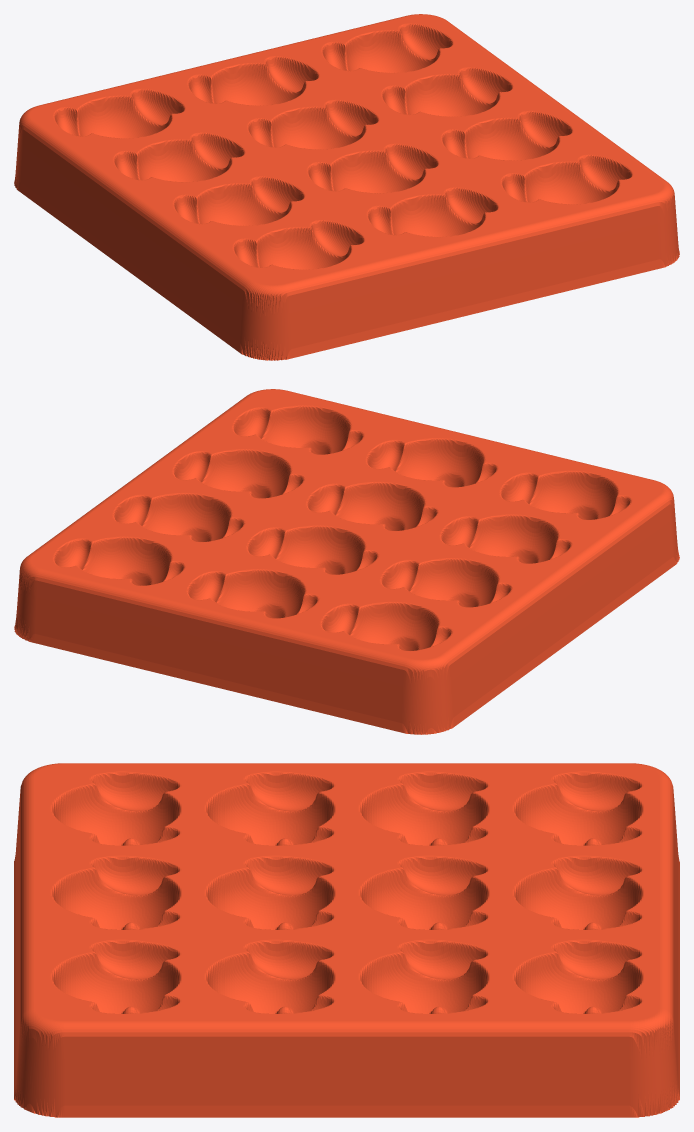
Rendered from mold.glb.
3 views of the same model, one above another, from view 1: azimuth 30°, elevation 25°; view 2: azimuth 150°, elevation 25°; view 3: azimuth 270°, elevation 25° (orthographic). The views are drawn at different scales.
Parts seen in each view (by area): view 1: geometry_0; view 2: geometry_0; view 3: geometry_0.
Boxes of the visible parts, x1,y1,x2,y2 form: geometry_0: (14,14,679,360); geometry_0: (14,389,679,734); geometry_0: (14,763,679,1117).
Bounding box in the file's own units: 0.1163 × 0.0175 × 0.1197.
